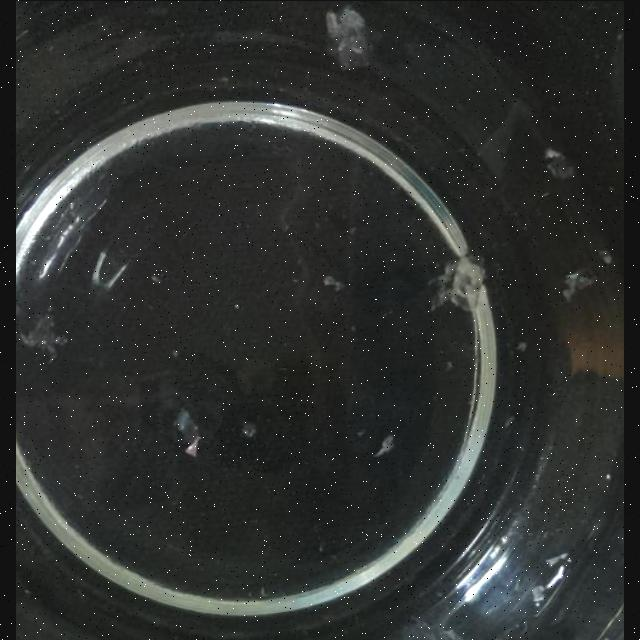Fibre: (432, 254, 488, 312), (326, 8, 372, 70), (21, 312, 69, 362), (392, 614, 466, 640), (562, 268, 596, 302), (544, 146, 576, 178), (373, 434, 395, 456), (546, 550, 570, 566), (322, 274, 344, 290), (532, 584, 546, 604), (598, 248, 612, 262), (504, 414, 514, 428), (515, 341, 527, 352)
microbeads: (354, 428, 366, 437)
